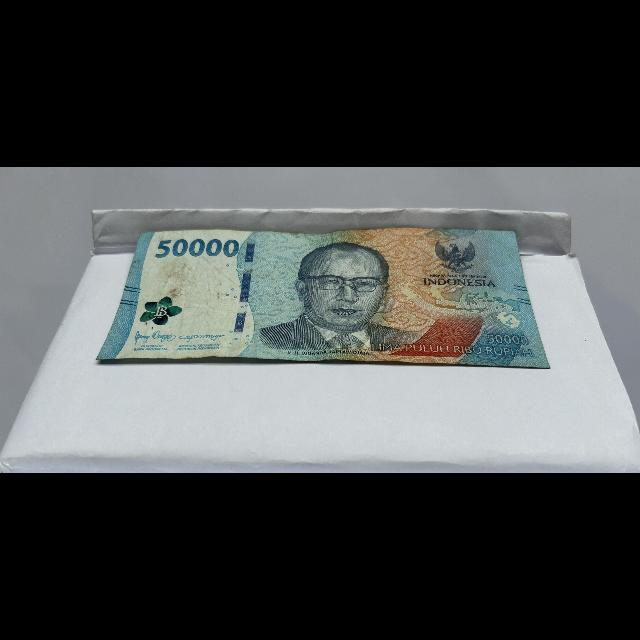Asli-50k: (93, 225, 554, 373)
Tinta-Asli-50k: (137, 296, 187, 327)
